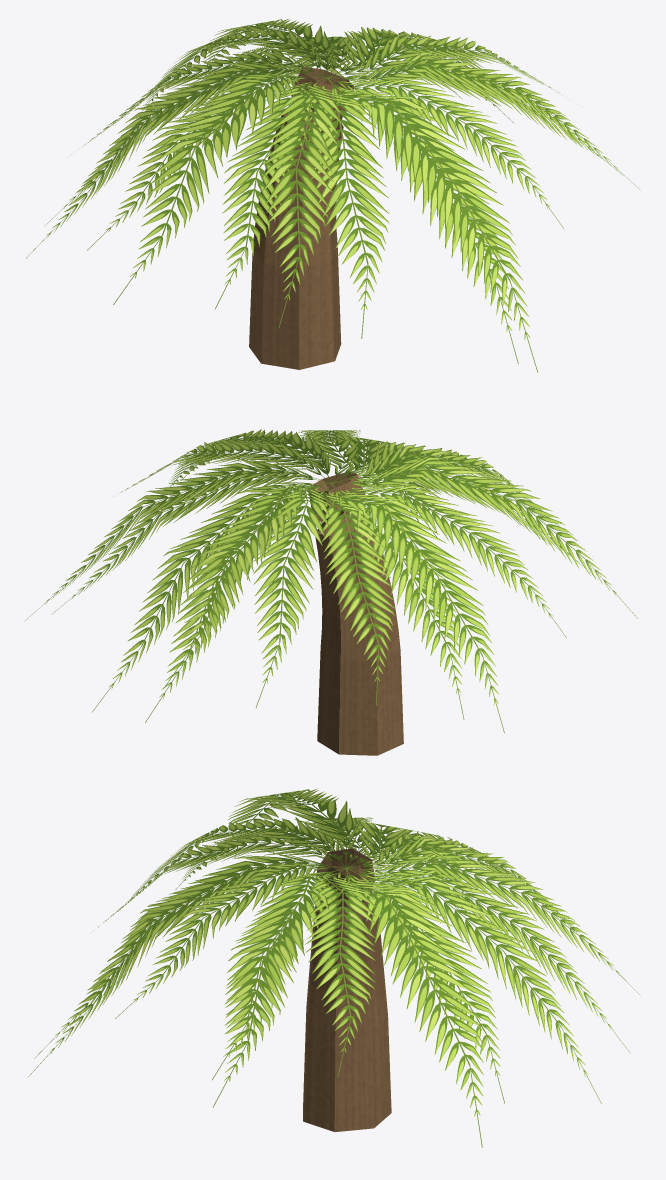
The model's file is palm2_low.glb.
3 renders of one model, top to bottom at view 1: azimuth 30°, elevation 25°; view 2: azimuth 150°, elevation 25°; view 3: azimuth 270°, elevation 25°, orthographic. The views are drawn at different scales.
Parts seen in each view (by area): view 1: palm2_low; view 2: palm2_low; view 3: palm2_low.
Boxes of the visible parts, x1,y1,x2,y2 form: palm2_low: (26,19,639,372); palm2_low: (25,429,637,755); palm2_low: (28,788,640,1147).
Bounding box in the file's own units: 1.79 × 0.8727 × 1.78.
2 materials, 2 textured.
